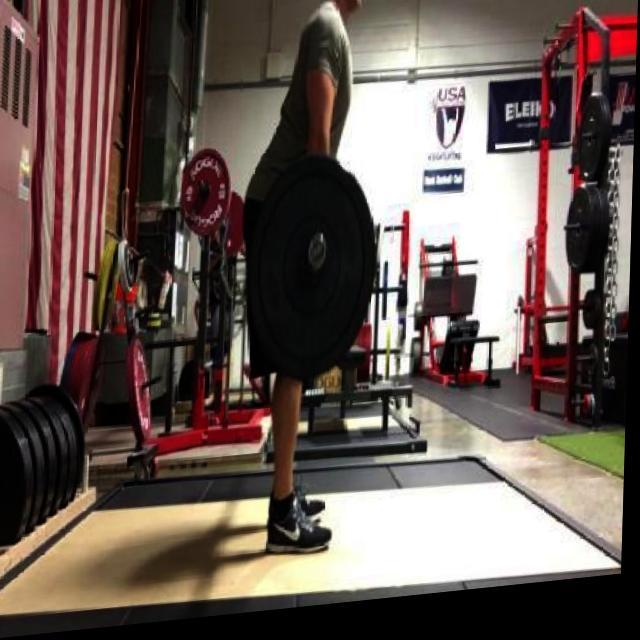barbell: (241, 161, 386, 397)
